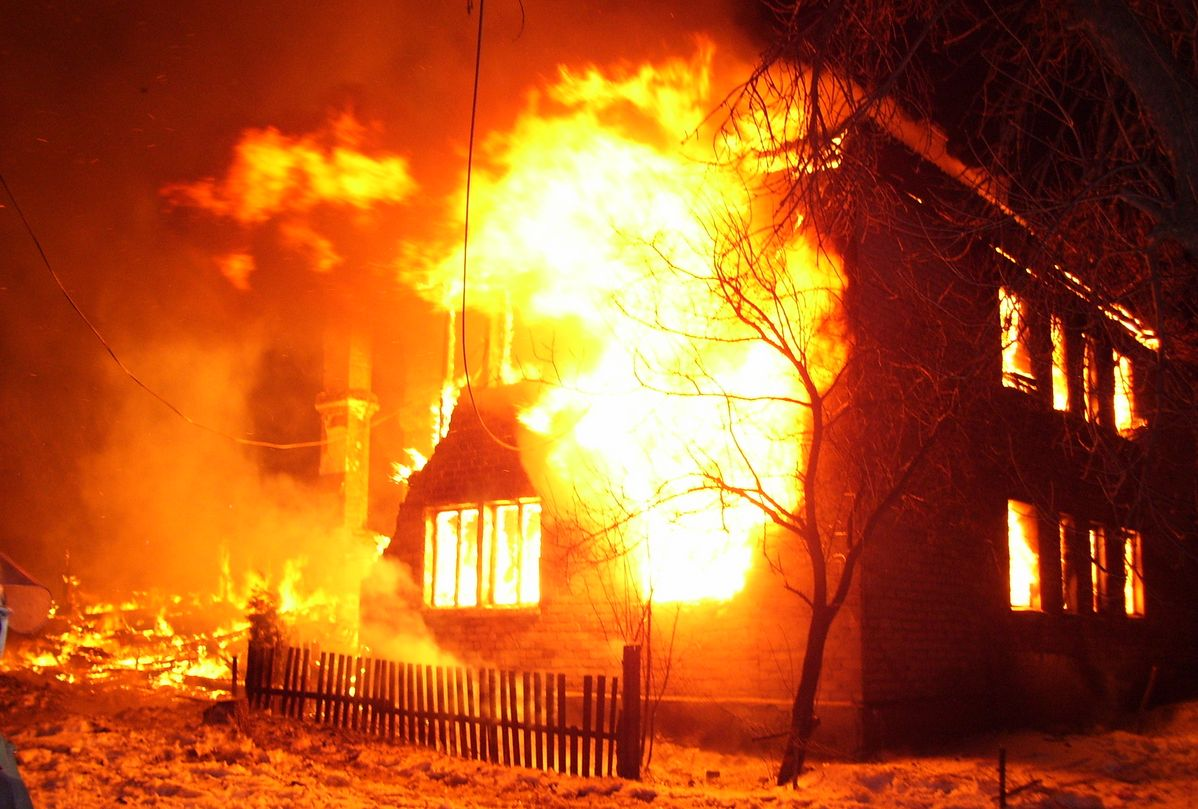fire: (81, 33, 792, 715)
